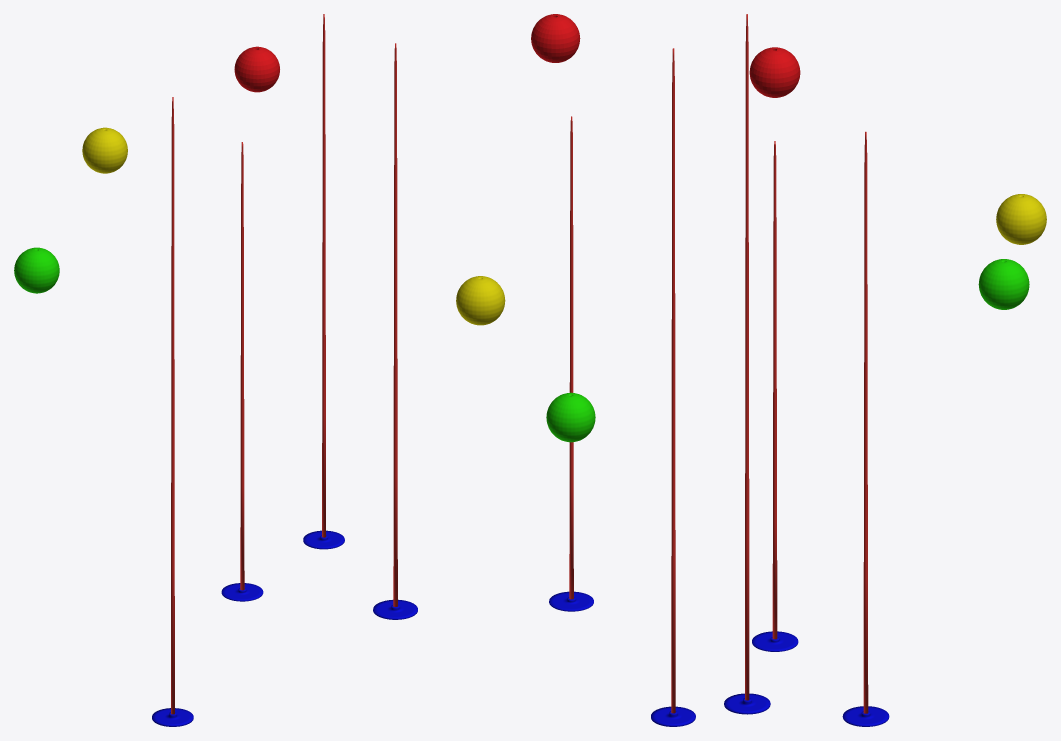
File: flowers1.fbx
3 views of the same model, side by side, from view 1: azimuth 30°, elevation 25°; view 2: azimuth 150°, elevation 25°; view 3: azimuth 270°, elevation 25° (orthographic). The views are drawn at different scales.
Visible parts, largest first — view 1: Cylinder.003, Cylinder.001, Cylinder, Sphere.001, Sphere.002, Sphere; view 2: Cylinder.003, Cylinder.001, Cylinder, Sphere.001, Sphere.002, Sphere; view 3: Cylinder.003, Cylinder.001, Cylinder, Sphere.002, Sphere.001, Sphere.
Boxes of the visible parts, x1=… form: Cylinder.003: x1=152, y1=97, x2=193, y2=726; Cylinder.001: x1=303, y1=14, x2=344, y2=549; Cylinder: x1=221, y1=142, x2=263, y2=601; Sphere.001: x1=14, y1=247, x2=59, y2=293; Sphere.002: x1=82, y1=127, x2=127, y2=173; Sphere: x1=234, y1=46, x2=279, y2=92; Cylinder.003: x1=651, y1=48, x2=695, y2=726; Cylinder.001: x1=373, y1=43, x2=417, y2=619; Cylinder: x1=549, y1=116, x2=593, y2=611; Sphere.001: x1=546, y1=392, x2=595, y2=442; Sphere.002: x1=456, y1=276, x2=505, y2=325; Sphere: x1=531, y1=14, x2=580, y2=62; Cylinder.003: x1=724, y1=14, x2=770, y2=714; Cylinder.001: x1=842, y1=131, x2=889, y2=726; Cylinder: x1=752, y1=141, x2=798, y2=651; Sphere.002: x1=996, y1=194, x2=1046, y2=244; Sphere.001: x1=978, y1=259, x2=1029, y2=309; Sphere: x1=749, y1=47, x2=800, y2=97.
Bounding box in the file's own units: 145 × 336 × 139.
